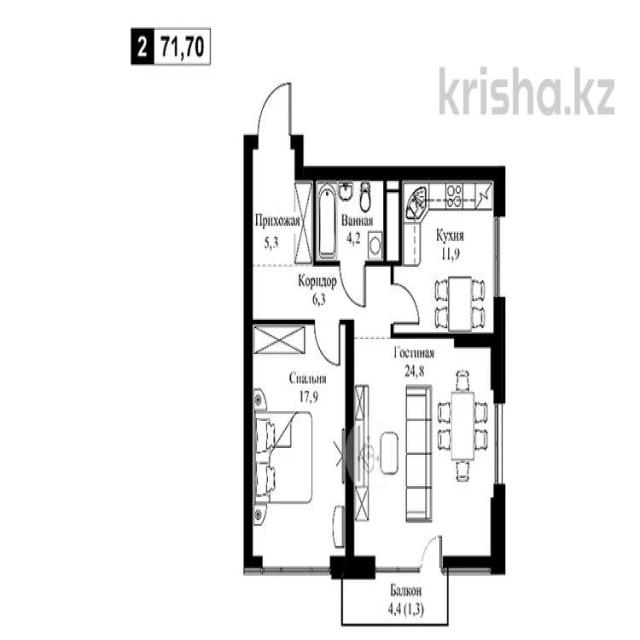balcony: (342, 566, 448, 627)
bathroom: (314, 176, 400, 262)
hallway: (250, 264, 391, 322), (252, 146, 315, 265)
kitchen: (401, 174, 501, 336)
living_room: (350, 338, 502, 568), (252, 321, 349, 564)
